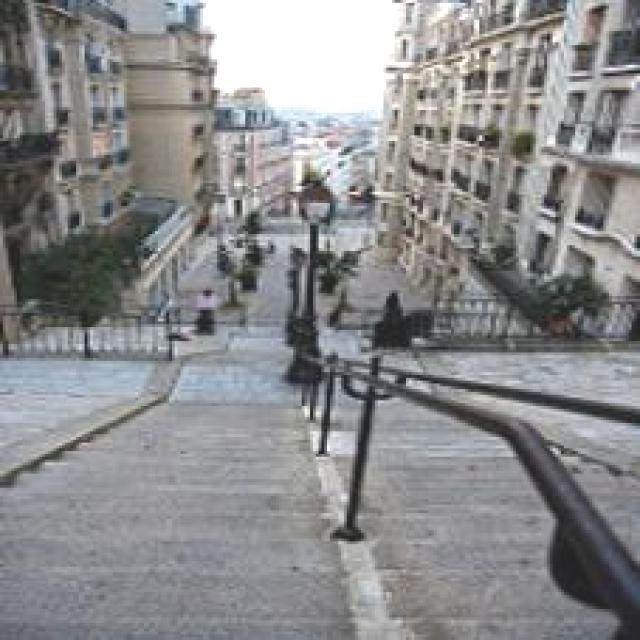stair: (1, 396, 354, 639)
